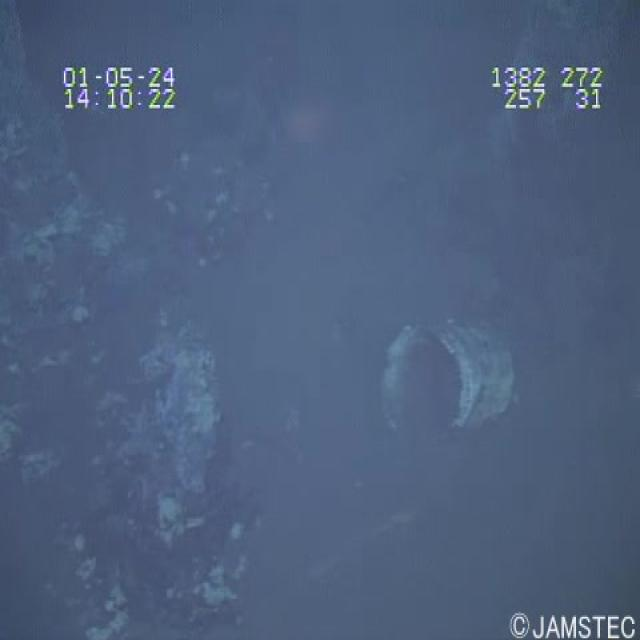plastic: (374, 297, 526, 466)
